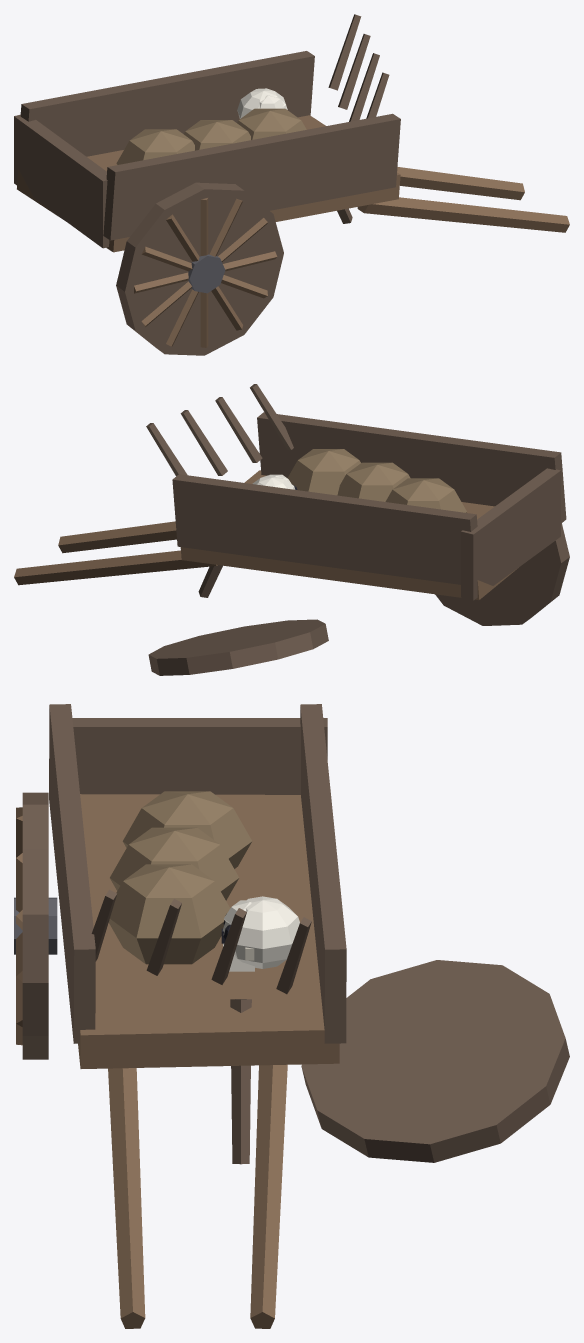
The model's file is wagon.glb.
3 views of the same model, one above another, from view 1: azimuth 30°, elevation 25°; view 2: azimuth 150°, elevation 25°; view 3: azimuth 270°, elevation 25° (orthographic). The views are drawn at different scales.
Visible parts, largest first — view 1: wagon; view 2: wagon; view 3: wagon.
Part boxes in pixels (x1=…): wagon: x1=14, y1=14, x2=569, y2=355; wagon: x1=14, y1=384, x2=569, y2=675; wagon: x1=14, y1=704, x2=569, y2=1328.
Bounding box in the file's own units: 3.8 × 1.57 × 2.57.
